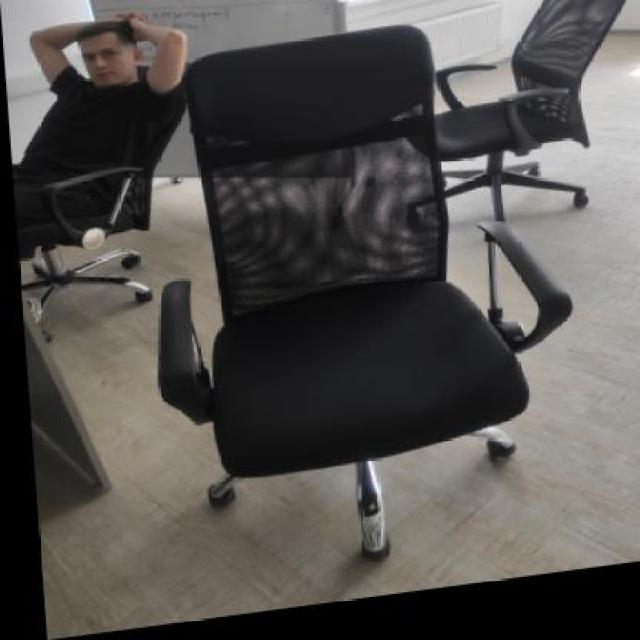chair: (128, 16, 588, 598), (357, 0, 638, 257), (5, 58, 214, 342)
